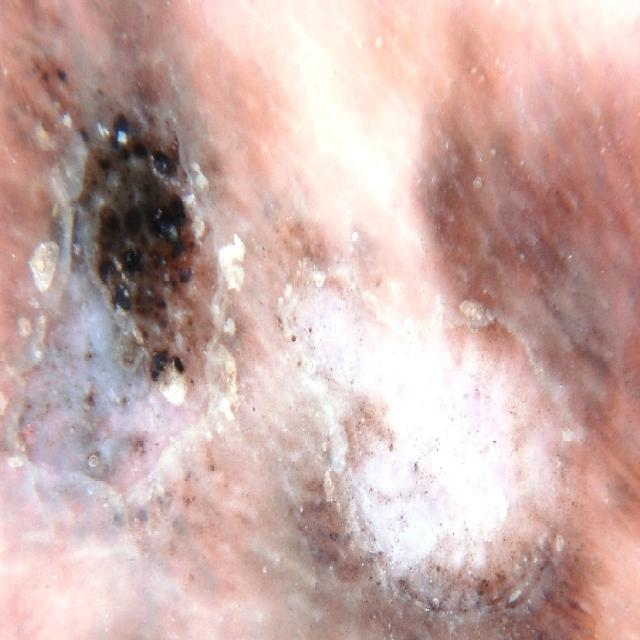Melanoma: (274, 268, 625, 640), (9, 75, 253, 474)
